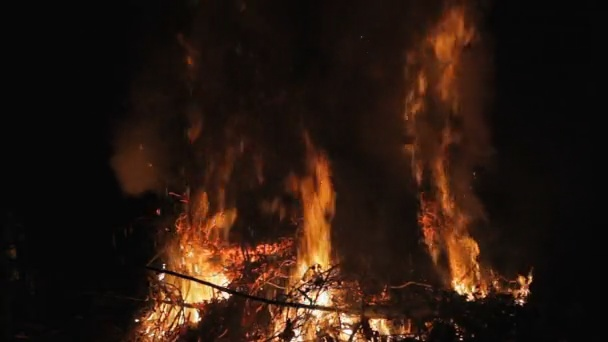fire: (135, 212, 231, 342), (404, 31, 458, 259), (292, 161, 332, 340), (450, 231, 479, 298), (516, 275, 529, 299), (369, 318, 387, 332)
